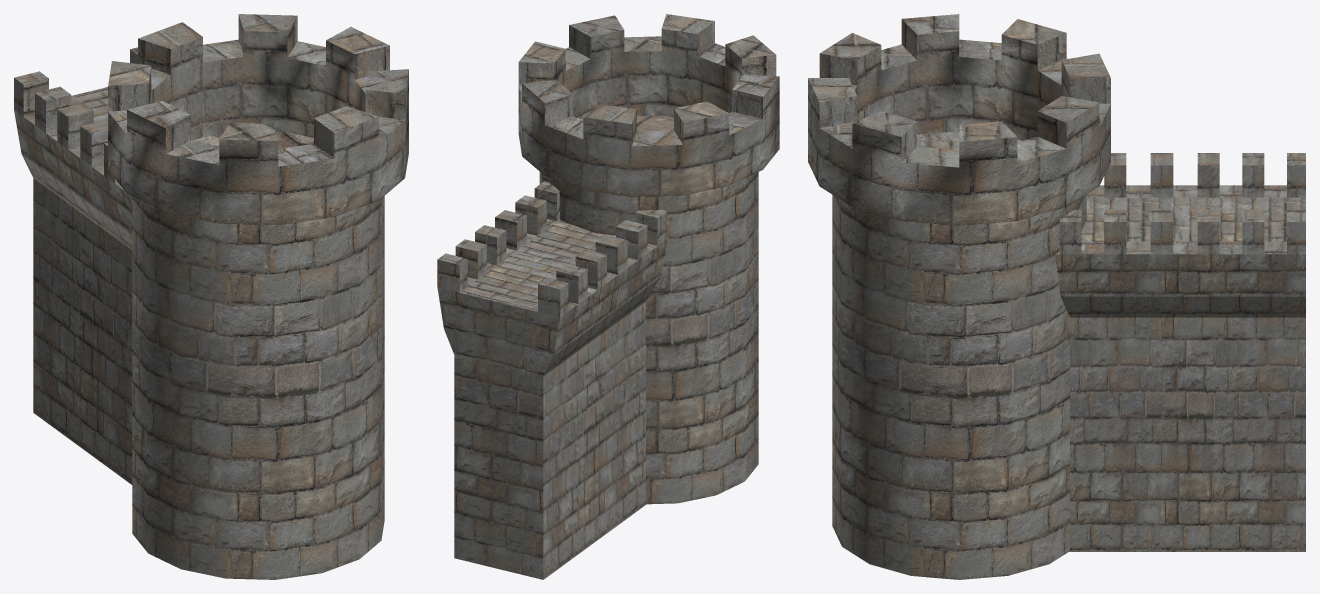
Rendered from Wall_T1.glb.
3 renders of one model, left to right at view 1: azimuth 30°, elevation 25°; view 2: azimuth 150°, elevation 25°; view 3: azimuth 270°, elevation 25°, orthographic. The views are drawn at different scales.
Visible parts, largest first — view 1: Wall_T1; view 2: Wall_T1; view 3: Wall_T1.
Part boxes in pixels (left/top/right/bottom): Wall_T1: left=14, top=14, right=408, bottom=579; Wall_T1: left=437, top=14, right=779, bottom=579; Wall_T1: left=808, top=14, right=1305, bottom=579.
Size of the model in its own units: 0.6379 by 1.04 by 1.05.
Materials: 1 (1 with a texture image).
